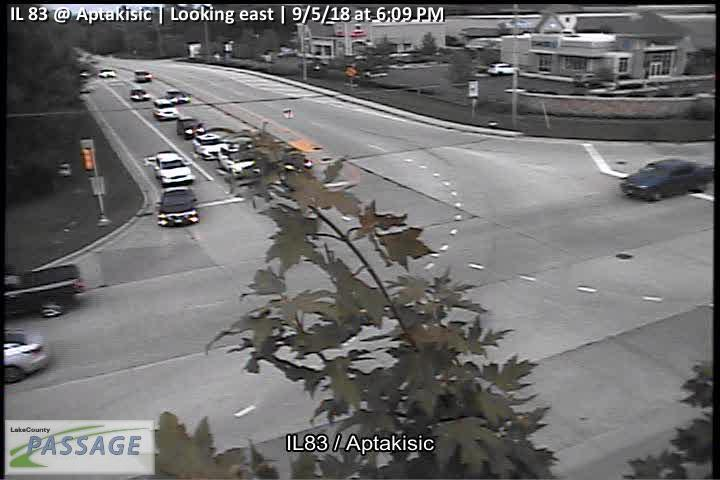Sedan: (619, 157, 714, 200), (153, 186, 200, 229), (154, 151, 198, 187), (190, 131, 229, 162), (175, 114, 205, 140), (149, 98, 178, 122)
